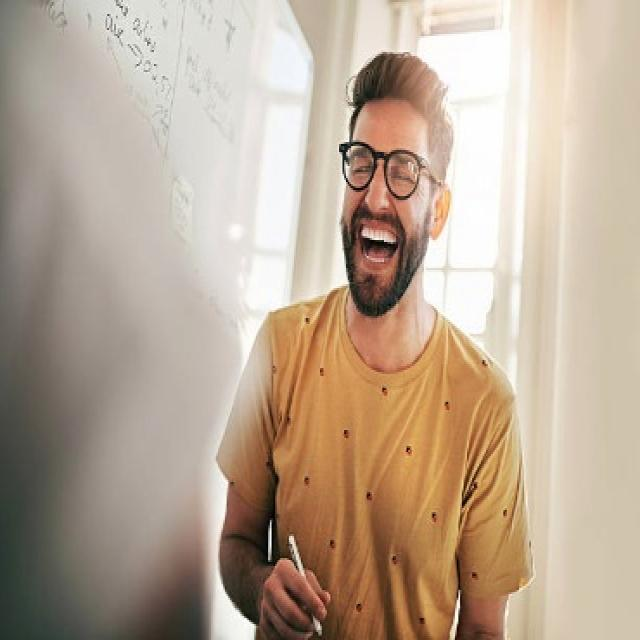adult: (220, 38, 520, 640)
